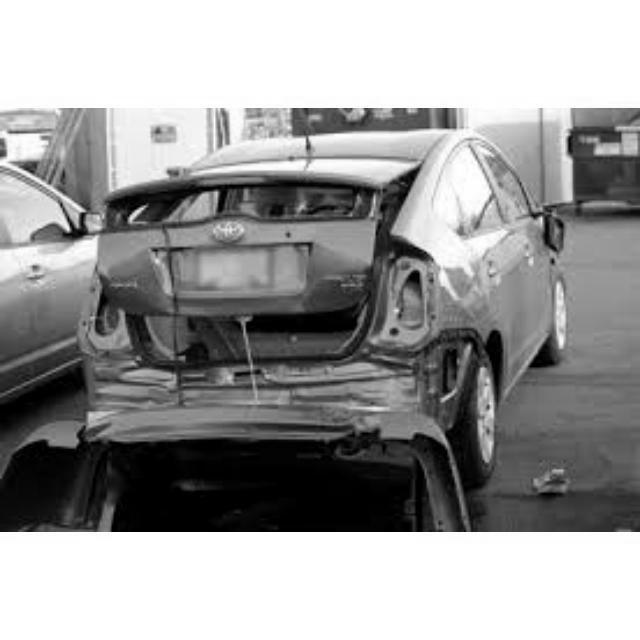Sidemirror-Damage: (542, 212, 569, 257)
Taillight-Damage: (385, 252, 440, 343), (83, 275, 130, 349)
boot-dent: (104, 165, 420, 371)
rear-bumper-dent: (82, 351, 466, 451)
